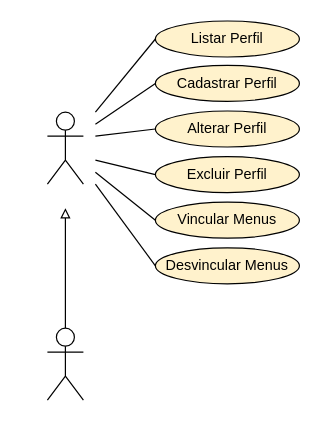
The diagram is 320 pixels wide and 446 high, and some of its shapes have lost their labels. The centre of each missing label's shape, as x and y in pixels:
"Administrador" goes at (x=64, y=363).
"Bibliotecario" goes at (x=64, y=147).
